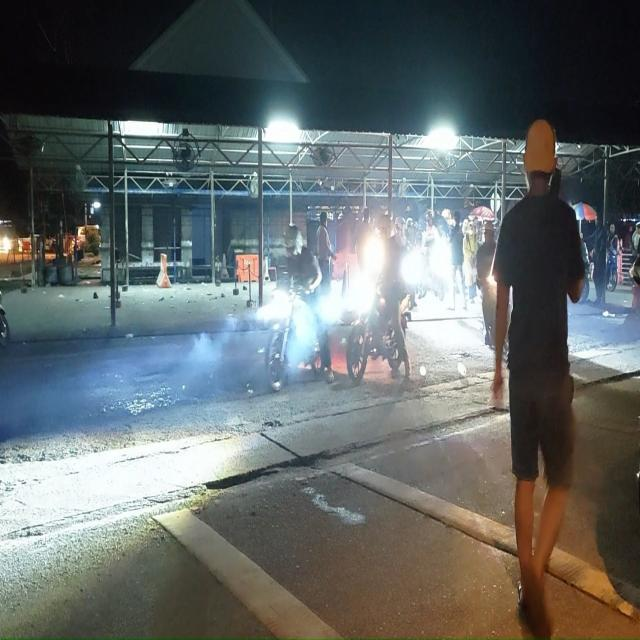Golongan II: (346, 283, 410, 382), (265, 287, 321, 392), (606, 246, 618, 292)
